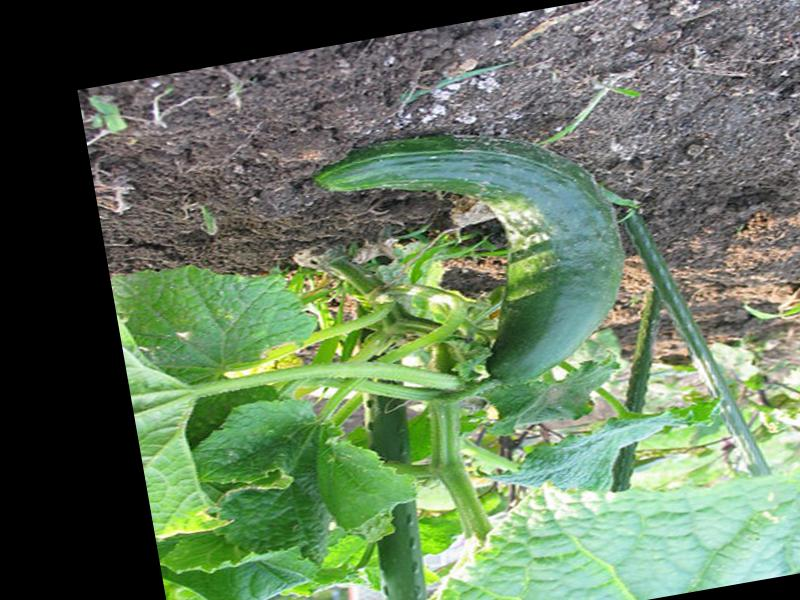Cucumber: (307, 103, 645, 413)
